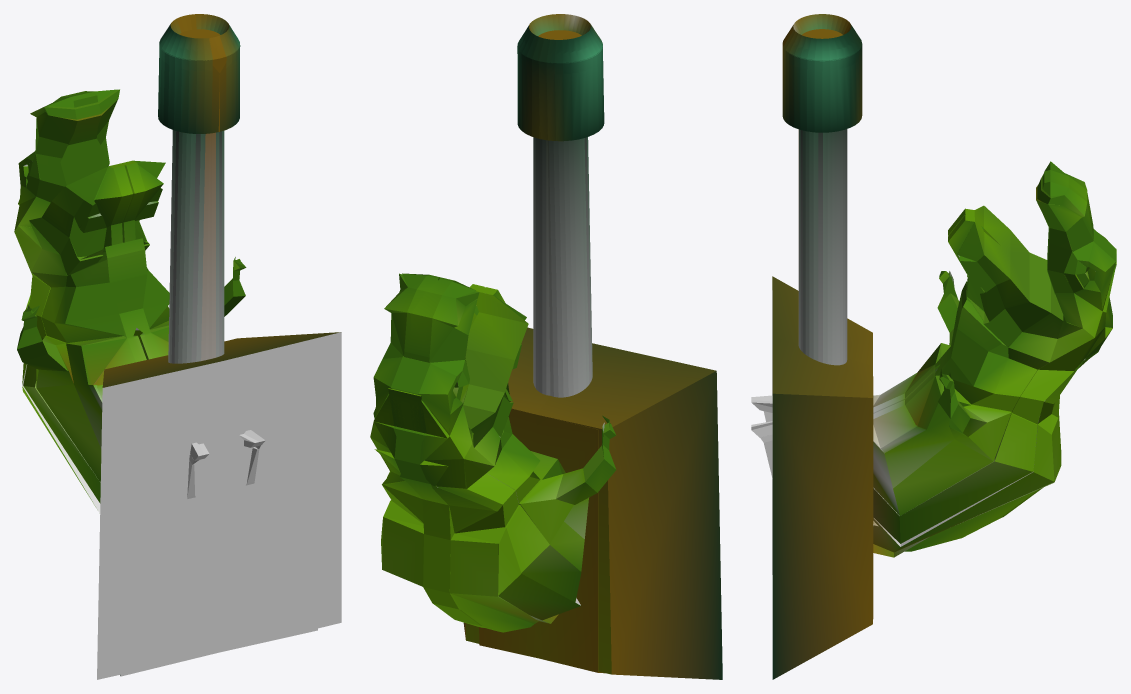
The model's file is tower-tanque.fbx.
The picture shows the model from 3 angles, left to right: view 1: azimuth 30°, elevation 25°; view 2: azimuth 150°, elevation 25°; view 3: azimuth 270°, elevation 25°; orthographic projection. The views are drawn at different scales.
Visible parts, largest first — view 1: torre-tanqueDino; view 2: torre-tanqueDino; view 3: torre-tanqueDino.
Part boxes in pixels (<box>): torre-tanqueDino: <box>14,14,341,679</box>; torre-tanqueDino: <box>370,14,722,679</box>; torre-tanqueDino: <box>751,14,1116,679</box>.
Size of the model in its own units: 393 by 934 by 515.
